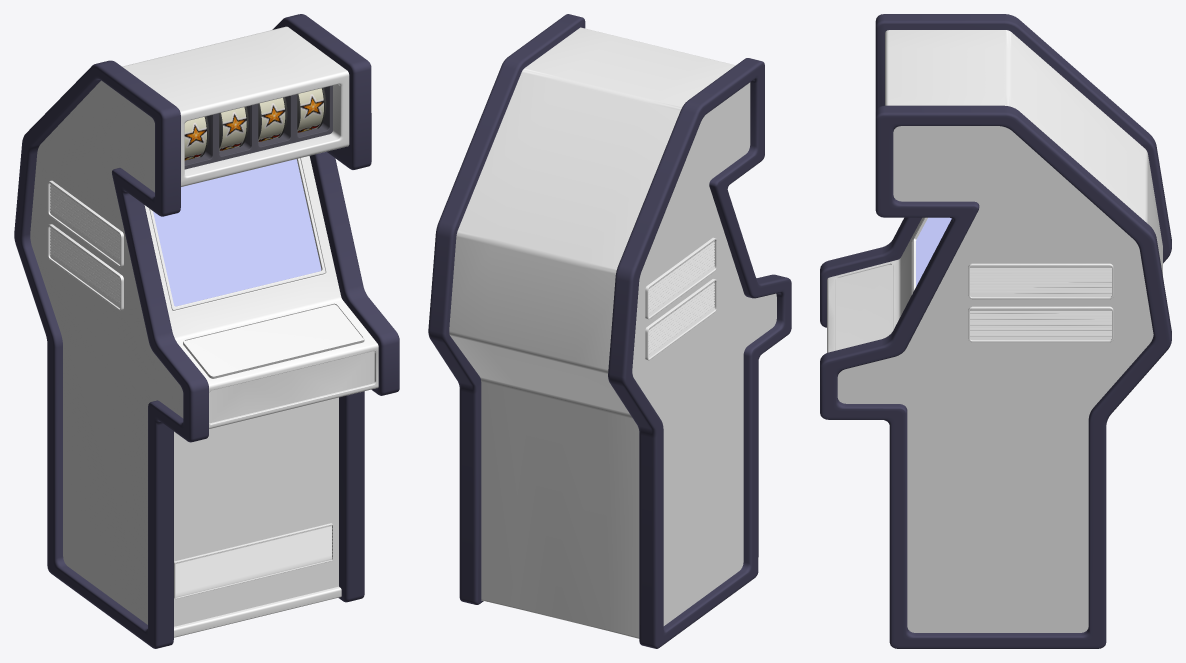
The model's file is SlotMachineAssetDraft1.glb.
3 renders of one model, left to right at view 1: azimuth 30°, elevation 25°; view 2: azimuth 150°, elevation 25°; view 3: azimuth 270°, elevation 25°, orthographic. The views are drawn at different scales.
Parts seen in each view (by area): view 1: Cube, Cylinder.003, Cylinder.004, Cylinder.002, Cylinder.001; view 2: Cube; view 3: Cube.
Boxes of the visible parts, x1,y1,x2,y2 form: Cube: (14, 14, 399, 648); Cylinder.003: (297, 87, 326, 132); Cylinder.004: (258, 97, 287, 142); Cylinder.002: (219, 106, 248, 151); Cylinder.001: (184, 116, 209, 160); Cube: (428, 14, 791, 648); Cube: (820, 14, 1171, 648).
Bounding box in the file's own units: 2.1 × 5.22 × 3.1.
Materials: 12 (1 with a texture image).
